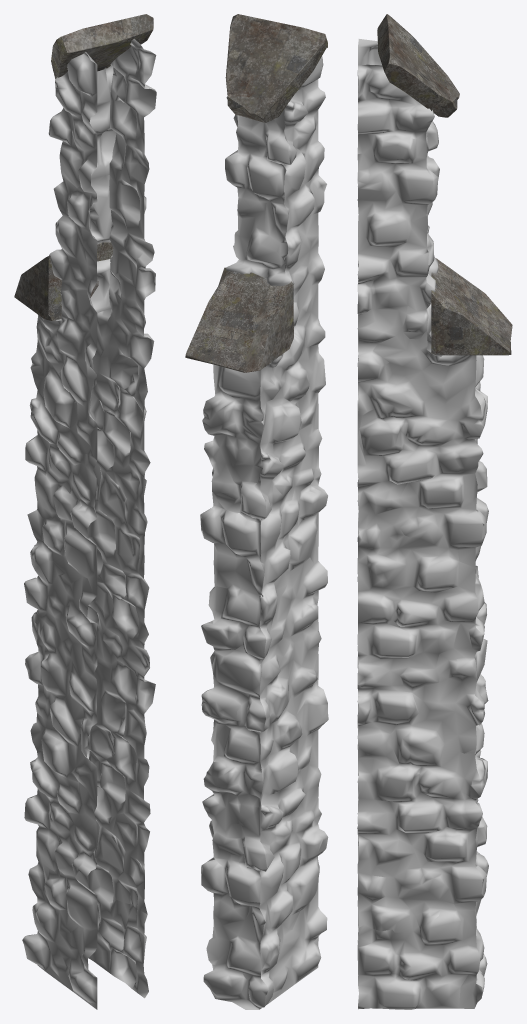
Rendered from SM_CastleTower_Pillar_A_02.fbx.
The picture shows the model from 3 angles, left to right: view 1: azimuth 30°, elevation 25°; view 2: azimuth 150°, elevation 25°; view 3: azimuth 270°, elevation 25°; orthographic projection.
Parts seen in each view (by area): view 1: SM_CastleTower_Pillar_A_02_LOD0; view 2: SM_CastleTower_Pillar_A_02_LOD0; view 3: SM_CastleTower_Pillar_A_02_LOD0.
Boxes of the visible parts, x1,y1,x2,y2 form: SM_CastleTower_Pillar_A_02_LOD0: [14, 14, 156, 1009]; SM_CastleTower_Pillar_A_02_LOD0: [185, 14, 328, 1009]; SM_CastleTower_Pillar_A_02_LOD0: [357, 14, 512, 1009].
Bounding box in the file's own units: 113 × 159 × 1088.
